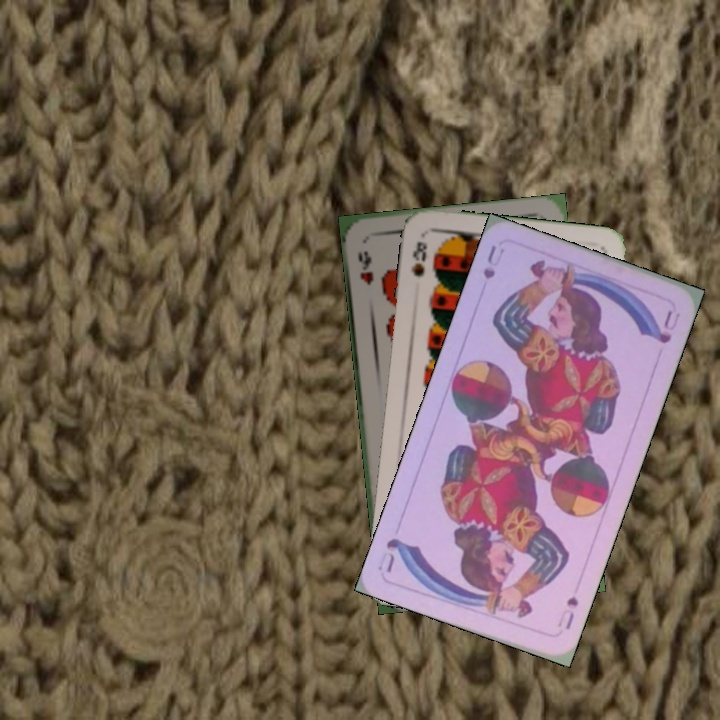H9: (354, 247, 376, 288)
S8: (407, 237, 429, 279)
SU: (479, 241, 507, 282), (561, 592, 581, 633)
